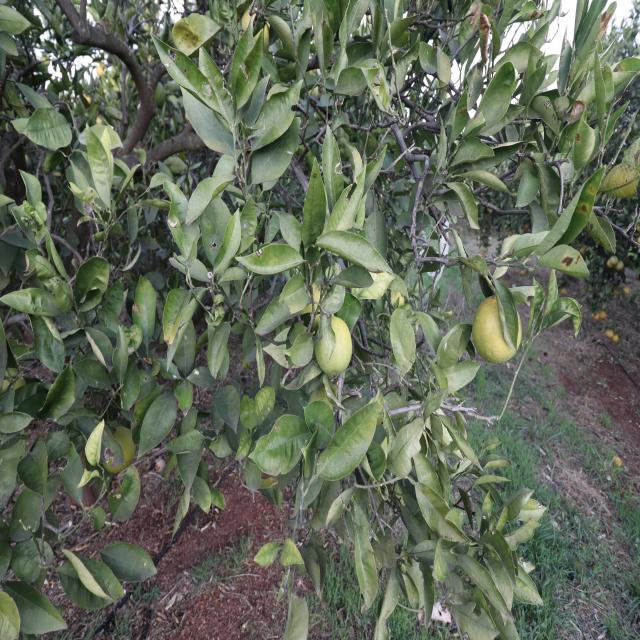Jeruk Belum Matang: (473, 296, 522, 363), (316, 317, 353, 373), (106, 424, 136, 472)
